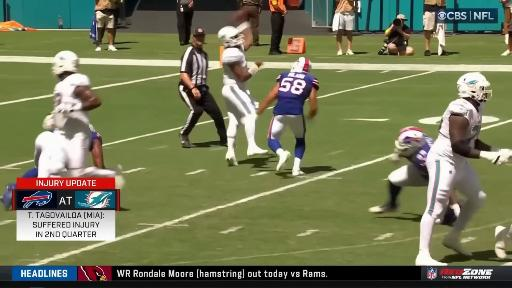Helmet: (457, 73, 491, 102), (395, 127, 425, 153), (52, 50, 79, 76), (218, 26, 243, 47), (291, 57, 311, 72), (89, 124, 96, 132)
Jersey: (431, 99, 482, 165), (274, 72, 319, 115), (54, 74, 90, 109), (405, 136, 434, 179), (222, 46, 247, 90), (35, 132, 64, 167), (89, 124, 102, 151), (90, 124, 102, 151)
Player: (416, 73, 511, 265), (52, 51, 124, 186), (258, 57, 319, 175), (218, 22, 267, 165), (369, 127, 434, 213), (24, 131, 66, 177), (90, 125, 105, 168), (495, 224, 511, 259)
